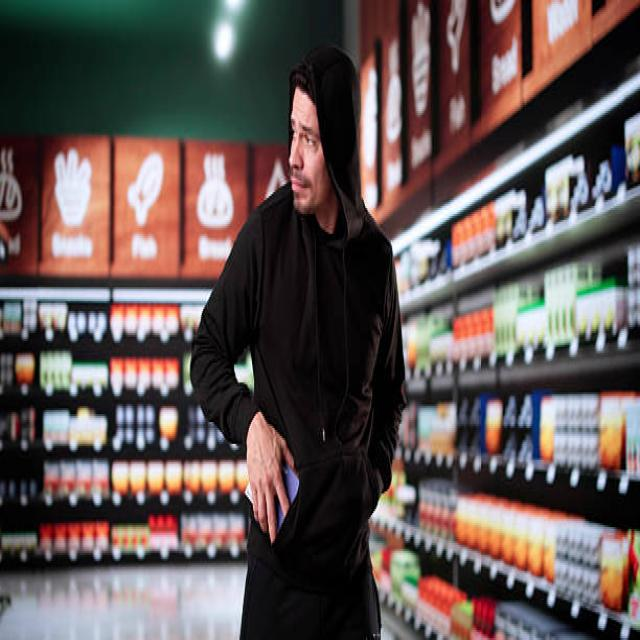article: (282, 464, 298, 507), (276, 497, 283, 531), (245, 483, 252, 501)
hands: (246, 412, 294, 541)
person: (190, 46, 404, 638)
